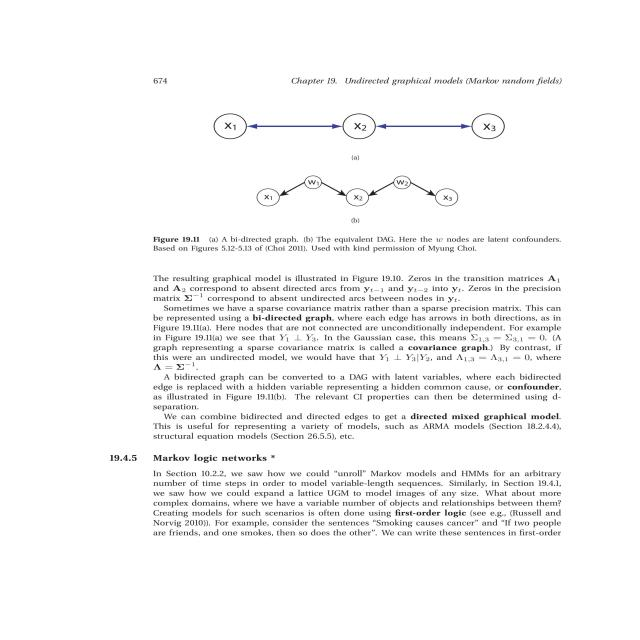diagram: (89, 98, 640, 263)
